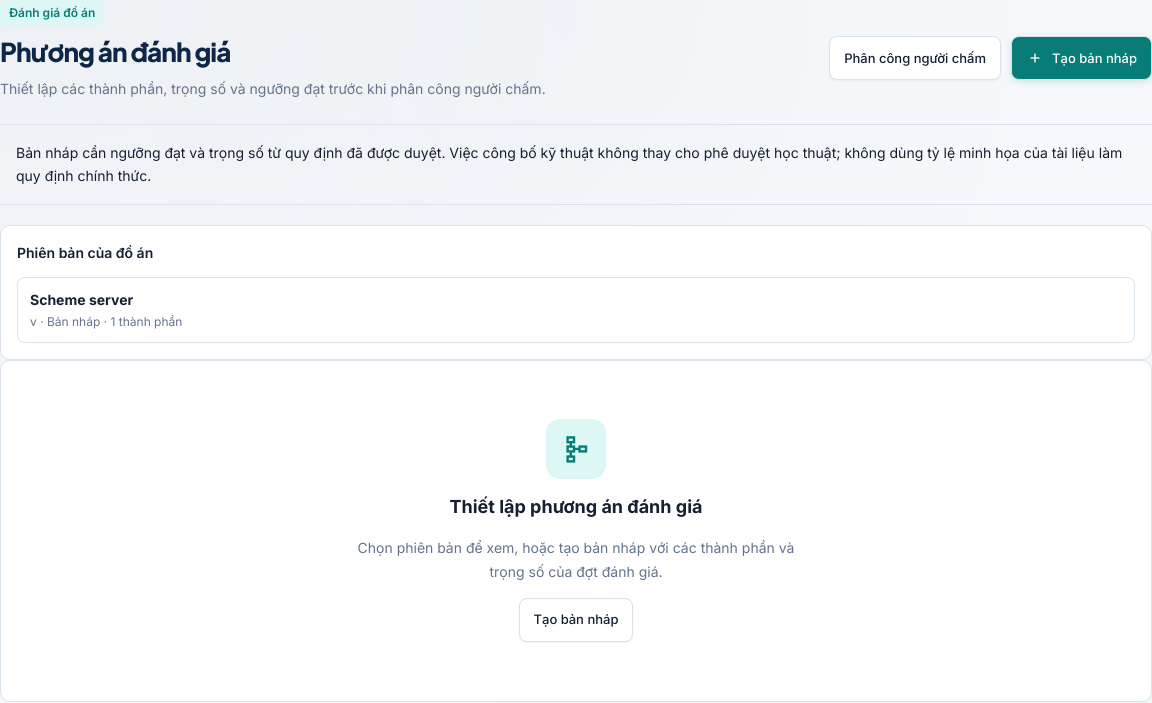
preserves server stage and evaluator weights when saving unrelated draft fields, without rewriting approval
Click the button "Scheme server v · Bản nháp · 1 thành phần" at (82, 299), box [17,277,1135,343]
(page scrolled)
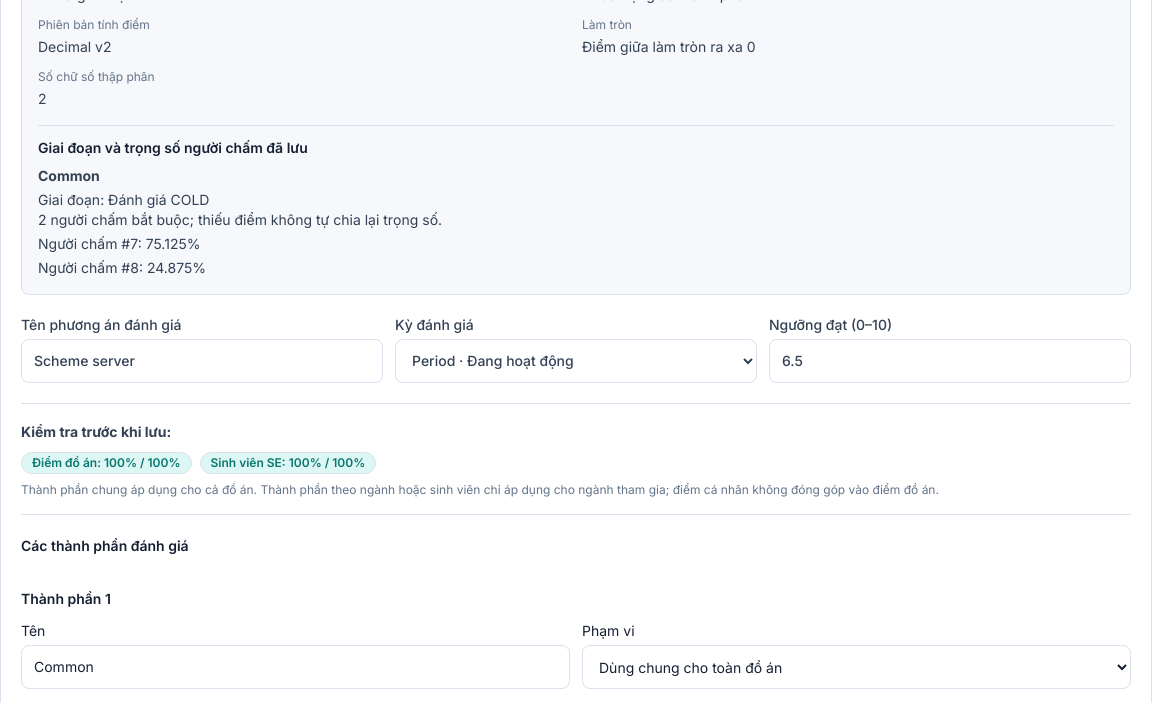
Replace the text in the field labelled "Tên phương án đánh giá" with "Renamed" at (202, 361), box [21,339,383,383]
(page scrolled)
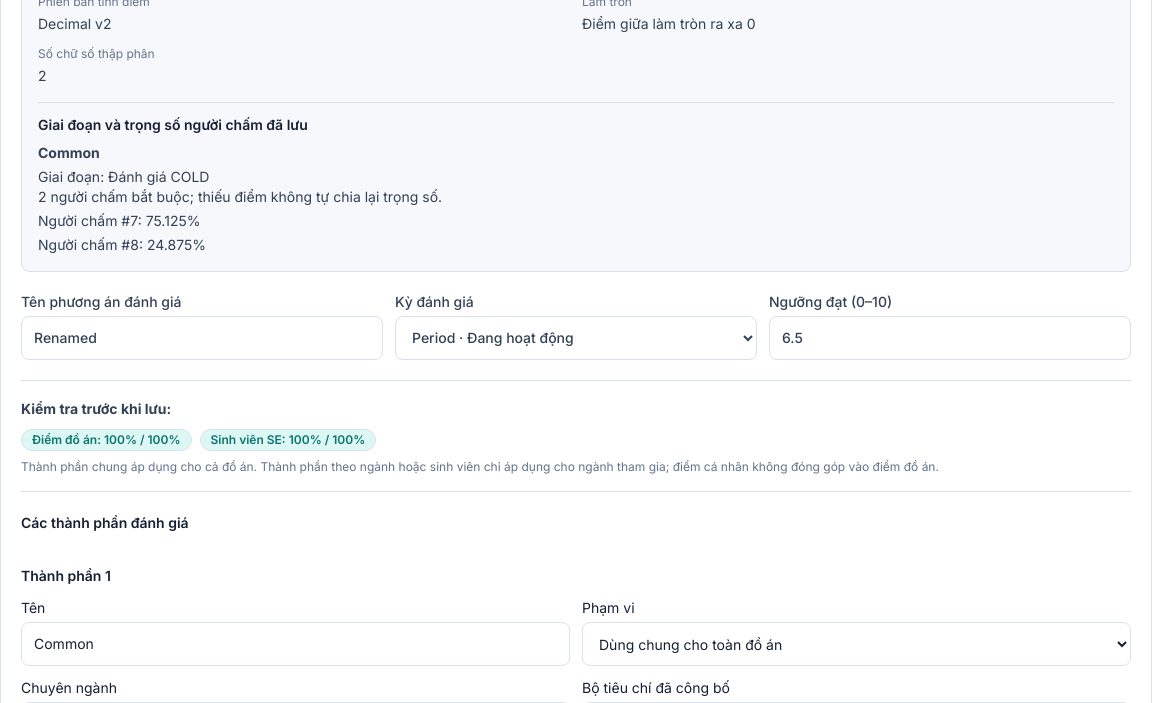
Submit the form named "Tên phương án đánh giá"
(page scrolled)
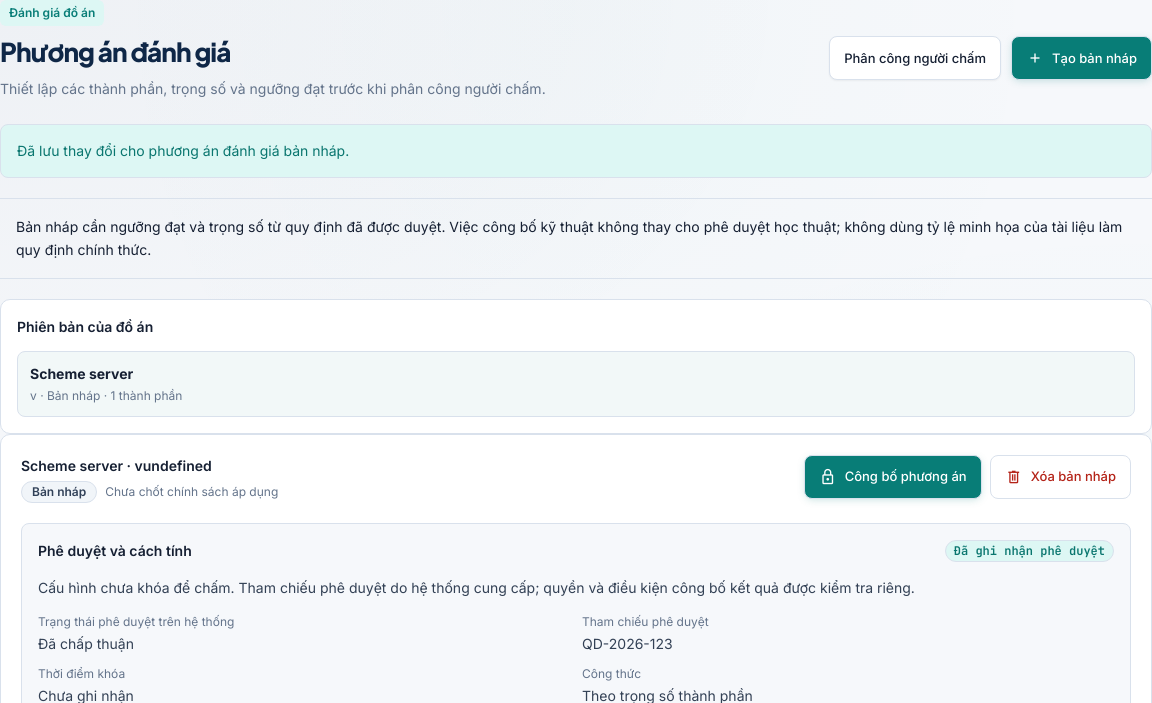
Result: the text "Đã lưu thay đổi cho phương án đánh giá bản nháp." is shown at [0,124,1151,178]
